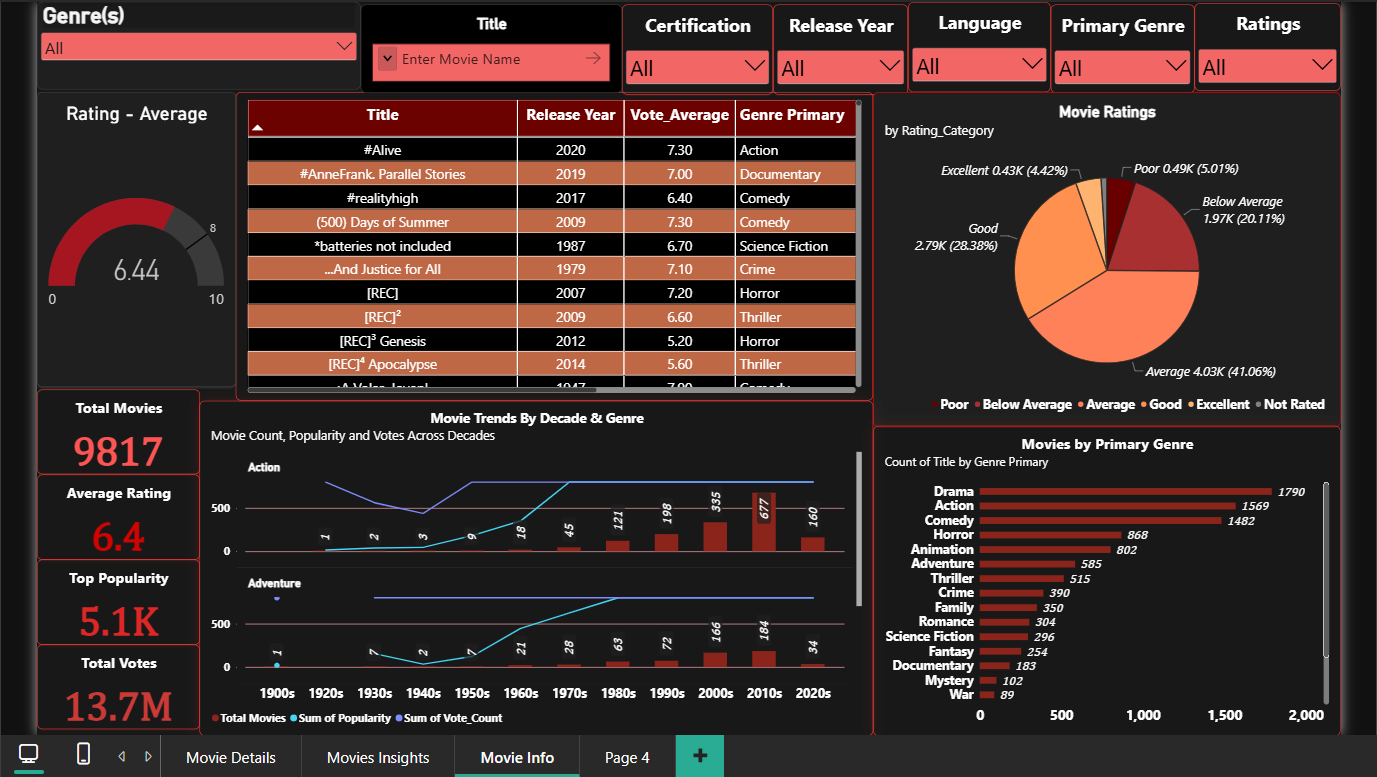

What the dashboard file says about the page in this screenshot:
{"tool":"powerbi","page":{"name":"Movie  Info","canvas":[1920,1080],"ordinal":2},"visuals":[{"type":"slicer","fields":{"Values":["mymoviedb.Genre"]},"box":[0,0,476.7,128.8],"z":0},{"type":"slicer","title":"Certification","fields":{"Values":["mymoviedb.Age_Rating"]},"box":[861.4,3.7,222.7,132.5],"z":1000},{"type":"slicer","title":"Release Year","fields":{"Values":["mymoviedb.Release Year"]},"box":[1084.1,3.7,198.8,132.5],"z":2000},{"type":"slicer","title":"Language","fields":{"Values":["mymoviedb.Original_Language"]},"box":[1282.8,0,209.8,132.5],"z":3000},{"type":"slicer","title":"Ratings","fields":{"Values":["mymoviedb.Rating_Category"]},"box":[1704.3,1.8,215.3,128.8],"z":4000},{"type":"slicer","title":"Primary Genre","fields":{"Values":["mymoviedb.Genre Primary"]},"box":[1492.6,3.7,211.7,130.7],"z":5000},{"type":"card","title":"Total Movies","fields":{"Values":["_Measures.Total Movies"]},"box":[0,570.6,240,125],"z":6000},{"type":"card","title":"Average Rating","fields":{"Values":["_Measures.Average Rating"]},"box":[0,695.7,239.8,125.3],"z":7000},{"type":"card","title":"Top Popularity","fields":{"Values":["_Measures.Top Popularity"]},"box":[0,820.9,239.8,125.3],"z":8000},{"type":"card","title":"Total Votes","fields":{"Values":["_Measures.Total Votes"]},"box":[0,946,240,125],"z":9000},{"type":"tableEx","fields":{"Values":["mymoviedb.Title","mymoviedb.Release Year","mymoviedb.Vote_Average","mymoviedb.Genre Primary"]},"box":[292.6,132.5,938.7,454.6],"z":10000},{"type":"pieChart","title":"Movie Ratings","fields":{"Category":["mymoviedb.Rating_Category"],"Y":["CountNonNull(mymoviedb.Title)"]},"box":[1231.3,132.5,688.3,493.3],"z":11000},{"type":"gauge","fields":{"MaxValue":["_Measures.Gauge Maximum"],"MinValue":["_Measures.Gauge Minimum"],"TargetValue":["_Measures.Gauge Target"],"Y":["_Measures.Average Movie Rating"]},"box":[0,132.5,292.6,434.4],"z":12000},{"type":"lineClusteredColumnComboChart","title":"Movie Trends By Decade & Genre","fields":{"Category":["mymoviedb.Release Decade"],"Rows":["mymoviedb.Genre Primary"],"Y":["_Measures.Total Movies"],"Y2":["Sum(mymoviedb.Popularity)","Sum(mymoviedb.Vote_Count)"]},"box":[239.3,587.1,992,493.3],"z":13000},{"type":"barChart","title":"Movies by Primary Genre","fields":{"Category":["mymoviedb.Genre Primary"],"Y":["CountNonNull(mymoviedb.Title)"]},"box":[1231.3,623.9,688.3,456.4],"z":14000},{"type":"textSlicer","fields":{"Values":["mymoviedb.Title"]},"box":[476.7,3.7,384.7,130.7],"z":15000}]}

Visuals, with their boxes on the page's 1920x1080 design canvas (x1, y1, x2, y2). These are canvas units, not pixel positions in the 1377x777 screenshot, which may show the page scaled, cropped or inside an application window:
slicer - mymoviedb.Genre: [0,0,477,129]
"Certification" slicer: [861,4,1084,136]
"Release Year" slicer: [1084,4,1283,136]
"Language" slicer: [1283,0,1493,132]
"Ratings" slicer: [1704,2,1920,131]
"Primary Genre" slicer: [1493,4,1704,134]
"Total Movies" card: [0,571,240,696]
"Average Rating" card: [0,696,240,821]
"Top Popularity" card: [0,821,240,946]
"Total Votes" card: [0,946,240,1071]
tableEx - mymoviedb.Title x mymoviedb.Release Year: [293,132,1231,587]
"Movie Ratings" pieChart: [1231,132,1920,626]
gauge - _Measures.Gauge Maximum x _Measures.Gauge Minimum: [0,132,293,567]
"Movie Trends By Decade & Genre" lineClusteredColumnComboChart: [239,587,1231,1080]
"Movies by Primary Genre" barChart: [1231,624,1920,1080]
textSlicer - mymoviedb.Title: [477,4,861,134]
